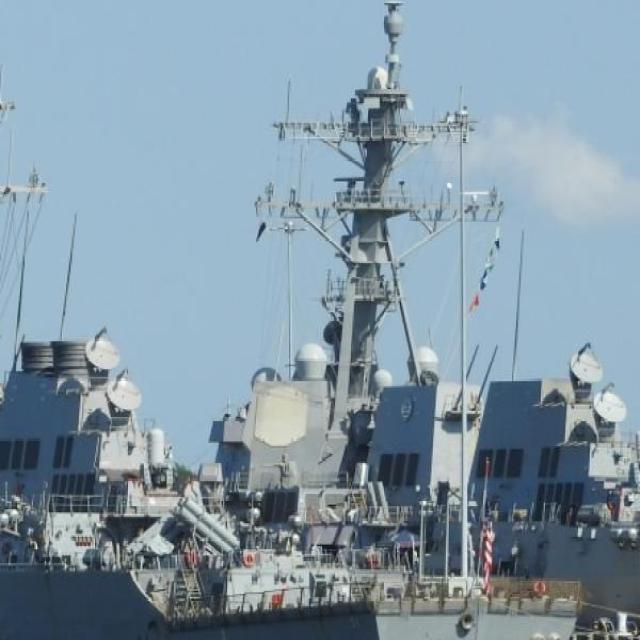Container Ship: (5, 5, 638, 639)
